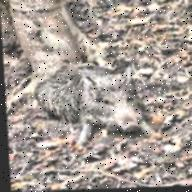boar: (25, 44, 148, 153)
